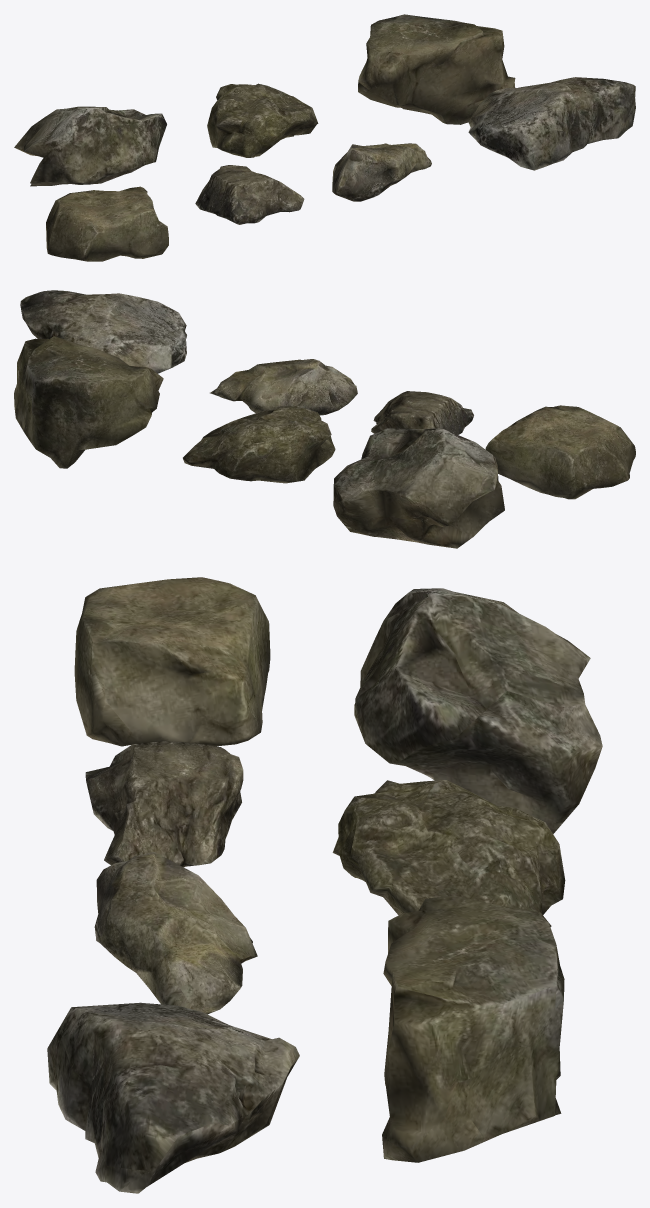
File: rock_moss_set_02.glb
3 renders of one model, top to bottom at view 1: azimuth 30°, elevation 25°; view 2: azimuth 150°, elevation 25°; view 3: azimuth 270°, elevation 25°, orthographic. The views are drawn at different scales.
Parts seen in each view (by area): view 1: rock_moss_set_02_rock13, rock_moss_set_02_rock10, rock_moss_set_02_rock11, rock_moss_set_02_rock07, rock_moss_set_02_rock12, rock_moss_set_02_rock08, rock_moss_set_02_rock09; view 2: rock_moss_set_02_rock11, rock_moss_set_02_rock13, rock_moss_set_02_rock07, rock_moss_set_02_rock10, rock_moss_set_02_rock12, rock_moss_set_02_rock09, rock_moss_set_02_rock08; view 3: rock_moss_set_02_rock11, rock_moss_set_02_rock13, rock_moss_set_02_rock10, rock_moss_set_02_rock07, rock_moss_set_02_rock12, rock_moss_set_02_rock09, rock_moss_set_02_rock08.
Boxes of the visible parts, <box> form: rock_moss_set_02_rock13: <box>358,14,515,124</box>; rock_moss_set_02_rock10: <box>468,77,635,170</box>; rock_moss_set_02_rock11: <box>14,106,166,186</box>; rock_moss_set_02_rock07: <box>46,186,168,261</box>; rock_moss_set_02_rock12: <box>207,83,318,157</box>; rock_moss_set_02_rock08: <box>195,165,304,224</box>; rock_moss_set_02_rock09: <box>332,143,431,201</box>; rock_moss_set_02_rock11: <box>333,428,504,548</box>; rock_moss_set_02_rock13: <box>14,336,163,468</box>; rock_moss_set_02_rock07: <box>485,405,635,499</box>; rock_moss_set_02_rock10: <box>20,290,186,373</box>; rock_moss_set_02_rock12: <box>183,406,335,483</box>; rock_moss_set_02_rock09: <box>210,359,357,415</box>; rock_moss_set_02_rock08: <box>371,391,473,434</box>; rock_moss_set_02_rock11: <box>354,588,602,833</box>; rock_moss_set_02_rock13: <box>382,895,564,1162</box>; rock_moss_set_02_rock10: <box>47,1002,299,1193</box>; rock_moss_set_02_rock07: <box>74,577,270,746</box>; rock_moss_set_02_rock12: <box>332,780,565,926</box>; rock_moss_set_02_rock09: <box>94,852,257,1014</box>; rock_moss_set_02_rock08: <box>85,741,243,867</box>.
Bounding box in the file's own units: 8.28 × 1.36 × 3.41.
Materials: 1 (1 with a texture image).
